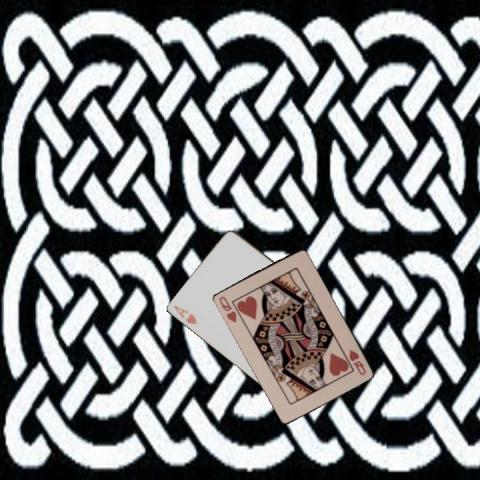Ah: (171, 302, 199, 325)
Qh: (216, 293, 238, 324), (346, 346, 367, 376)
